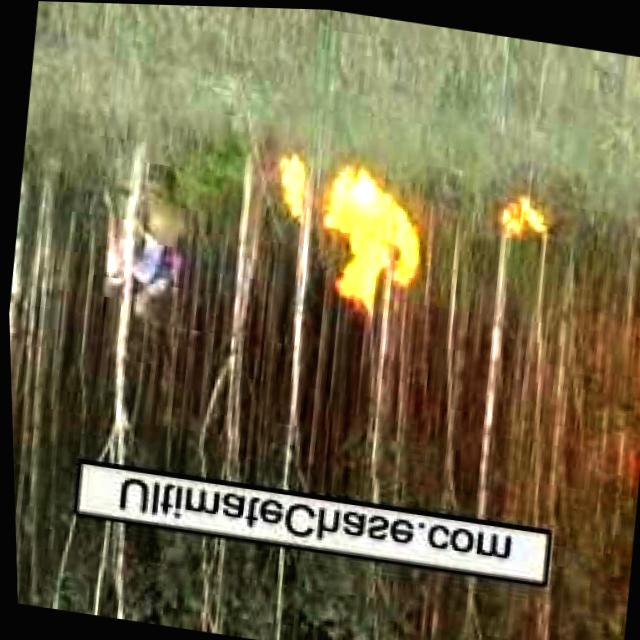helmet: (311, 165, 427, 304), (493, 182, 549, 244), (273, 145, 308, 224)
